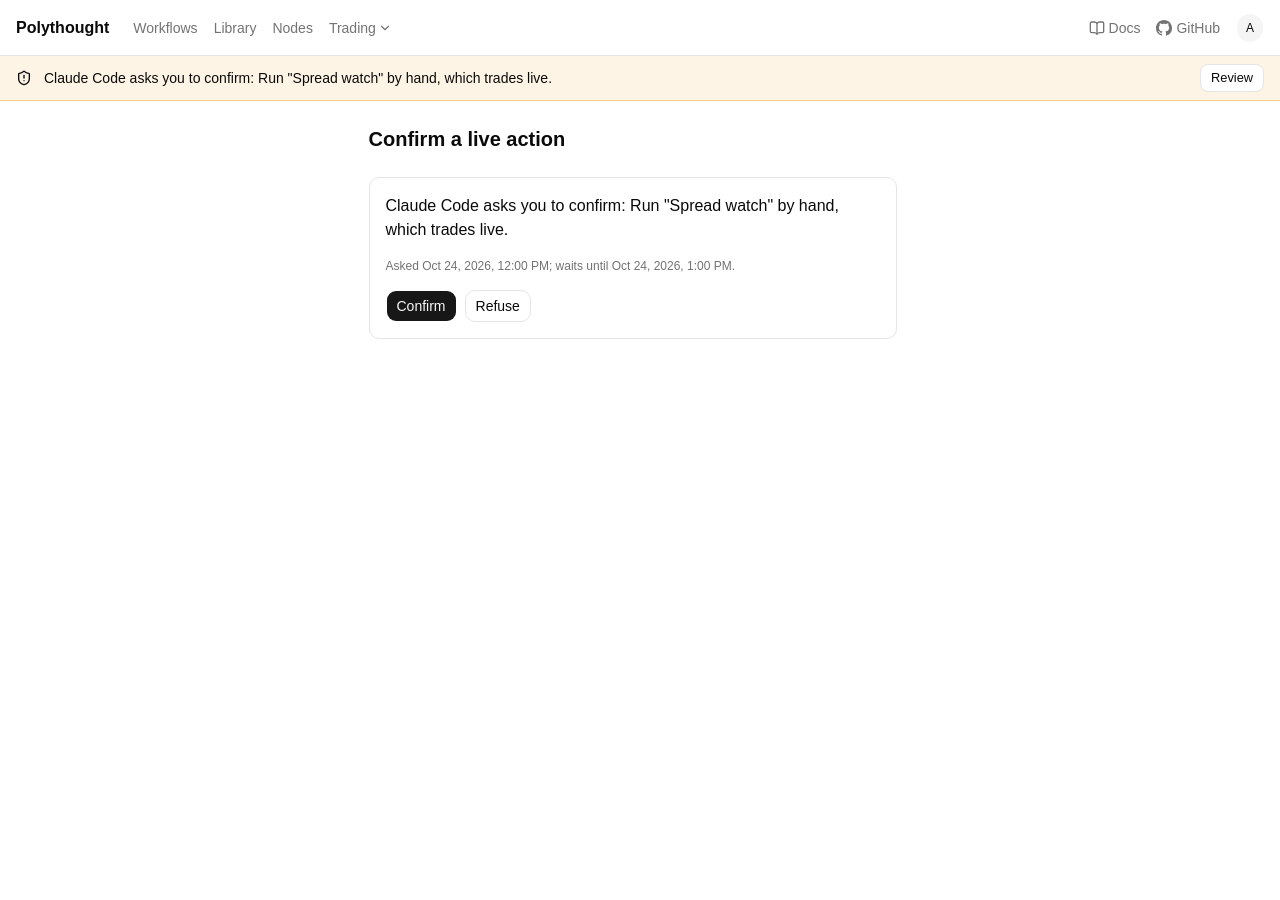
Test: the page an agent links to (D409) › confirms the request, and says to go back to the agent
Expected: the text "asks you to confirm: Run \"Spread watch\" by hand" below "Confirm a live action" is shown, [386,194,880,242]
Click the button "Confirm" at (421, 306), box [386,290,456,322]
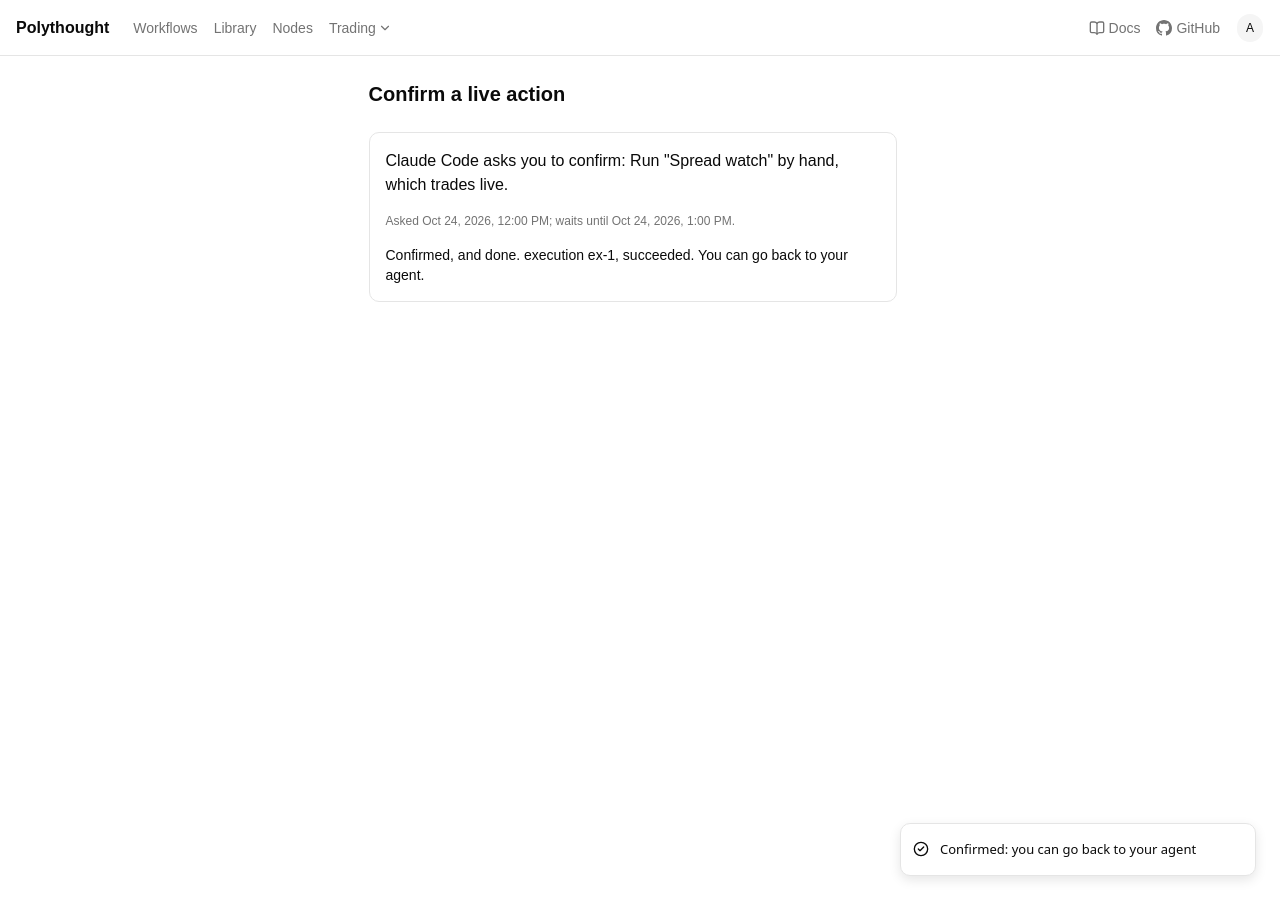
Expected: the message reads "Confirmed, and done. execution ex-1, succeeded. You can go back to your agent.", [386,245,880,285]
